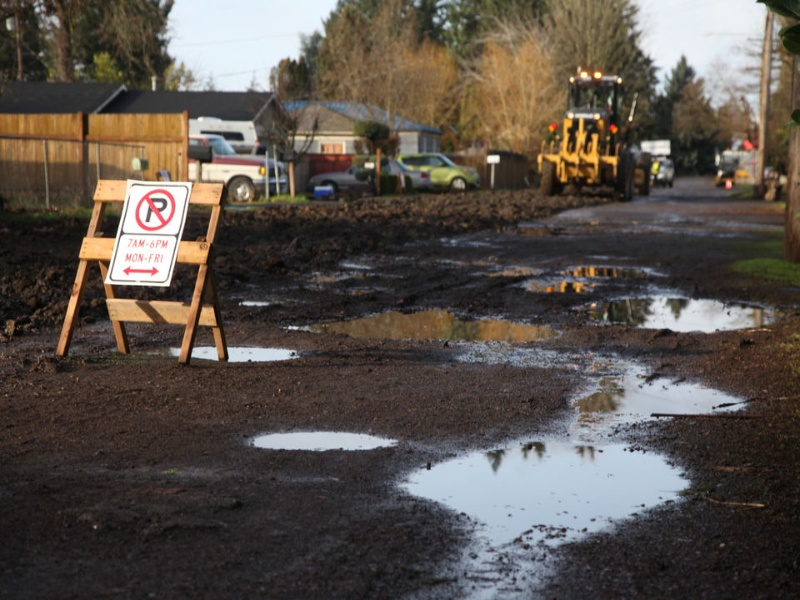pothole: (402, 430, 700, 527), (303, 303, 565, 352), (556, 370, 756, 417), (570, 293, 780, 330), (243, 423, 398, 460), (171, 338, 299, 364), (520, 277, 593, 293), (236, 294, 273, 309)
